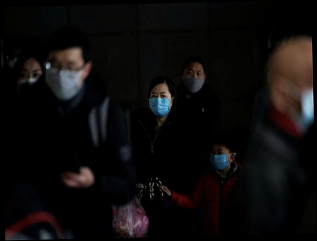with_mask: (45, 57, 85, 101), (148, 89, 172, 118), (182, 67, 206, 94), (211, 147, 230, 171)
